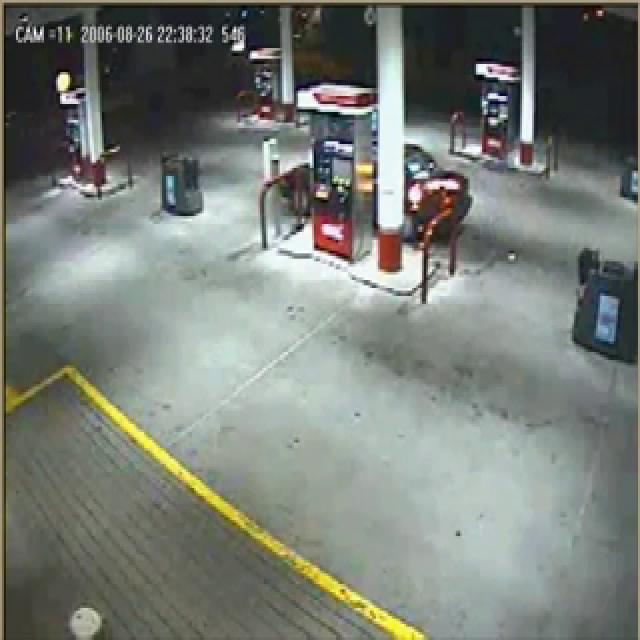explosion: (256, 55, 550, 402)
